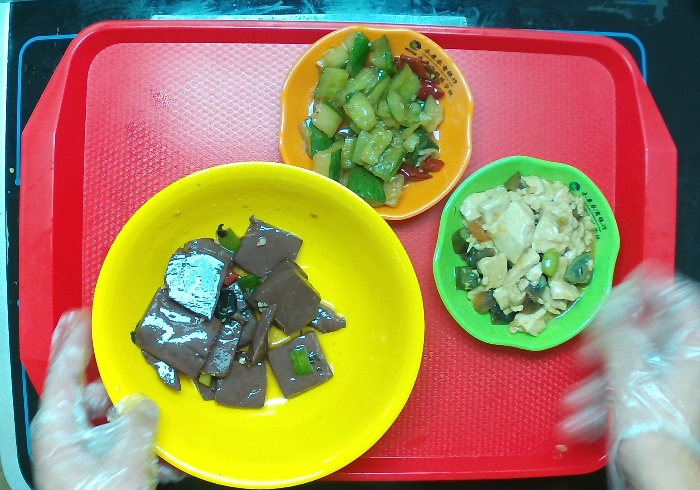YKMZ-Huang_Se_Tang_Wan: (89, 159, 424, 490)
YKMZ-Ju_Se_Ao_Bian_Wan: (275, 24, 476, 223)
YKMZ-Lv_Se_Ao_Bian_Wan: (431, 152, 623, 355)
